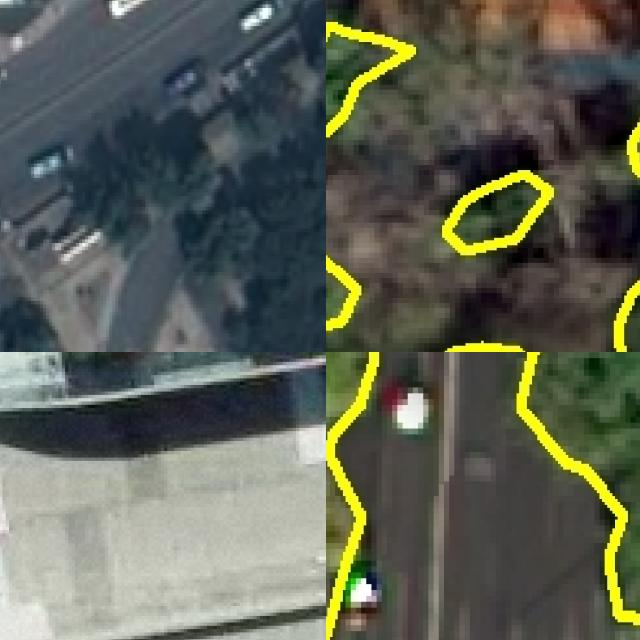trees: (520, 353, 640, 620), (327, 25, 412, 133), (446, 173, 550, 251), (327, 260, 357, 328)
